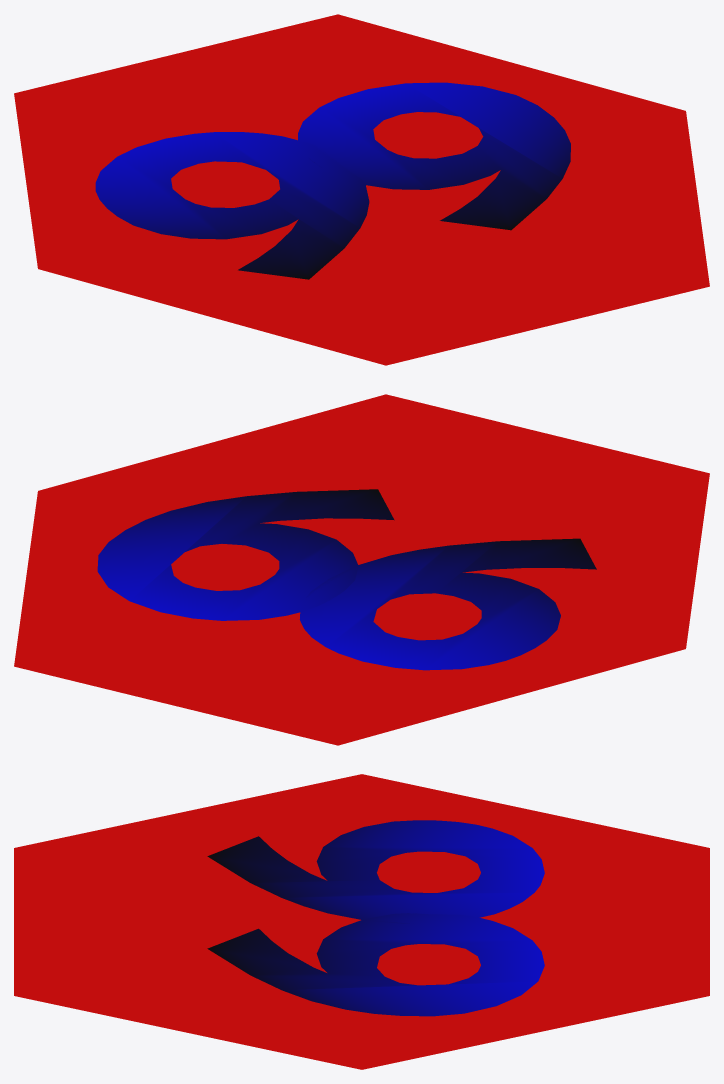
File: SM_Number_99.fbx
3 renders of one model, top to bottom at view 1: azimuth 30°, elevation 25°; view 2: azimuth 150°, elevation 25°; view 3: azimuth 270°, elevation 25°, orthographic. The views are drawn at different scales.
Parts seen in each view (by area): view 1: FBX_OUT; view 2: FBX_OUT; view 3: FBX_OUT.
Boxes of the visible parts, box(x1,y1,x2,y2) form: FBX_OUT: box(14, 14, 709, 365); FBX_OUT: box(14, 394, 709, 745); FBX_OUT: box(14, 774, 709, 1069).
Size of the model in its own units: 50 by 0.2917 by 49.71.
